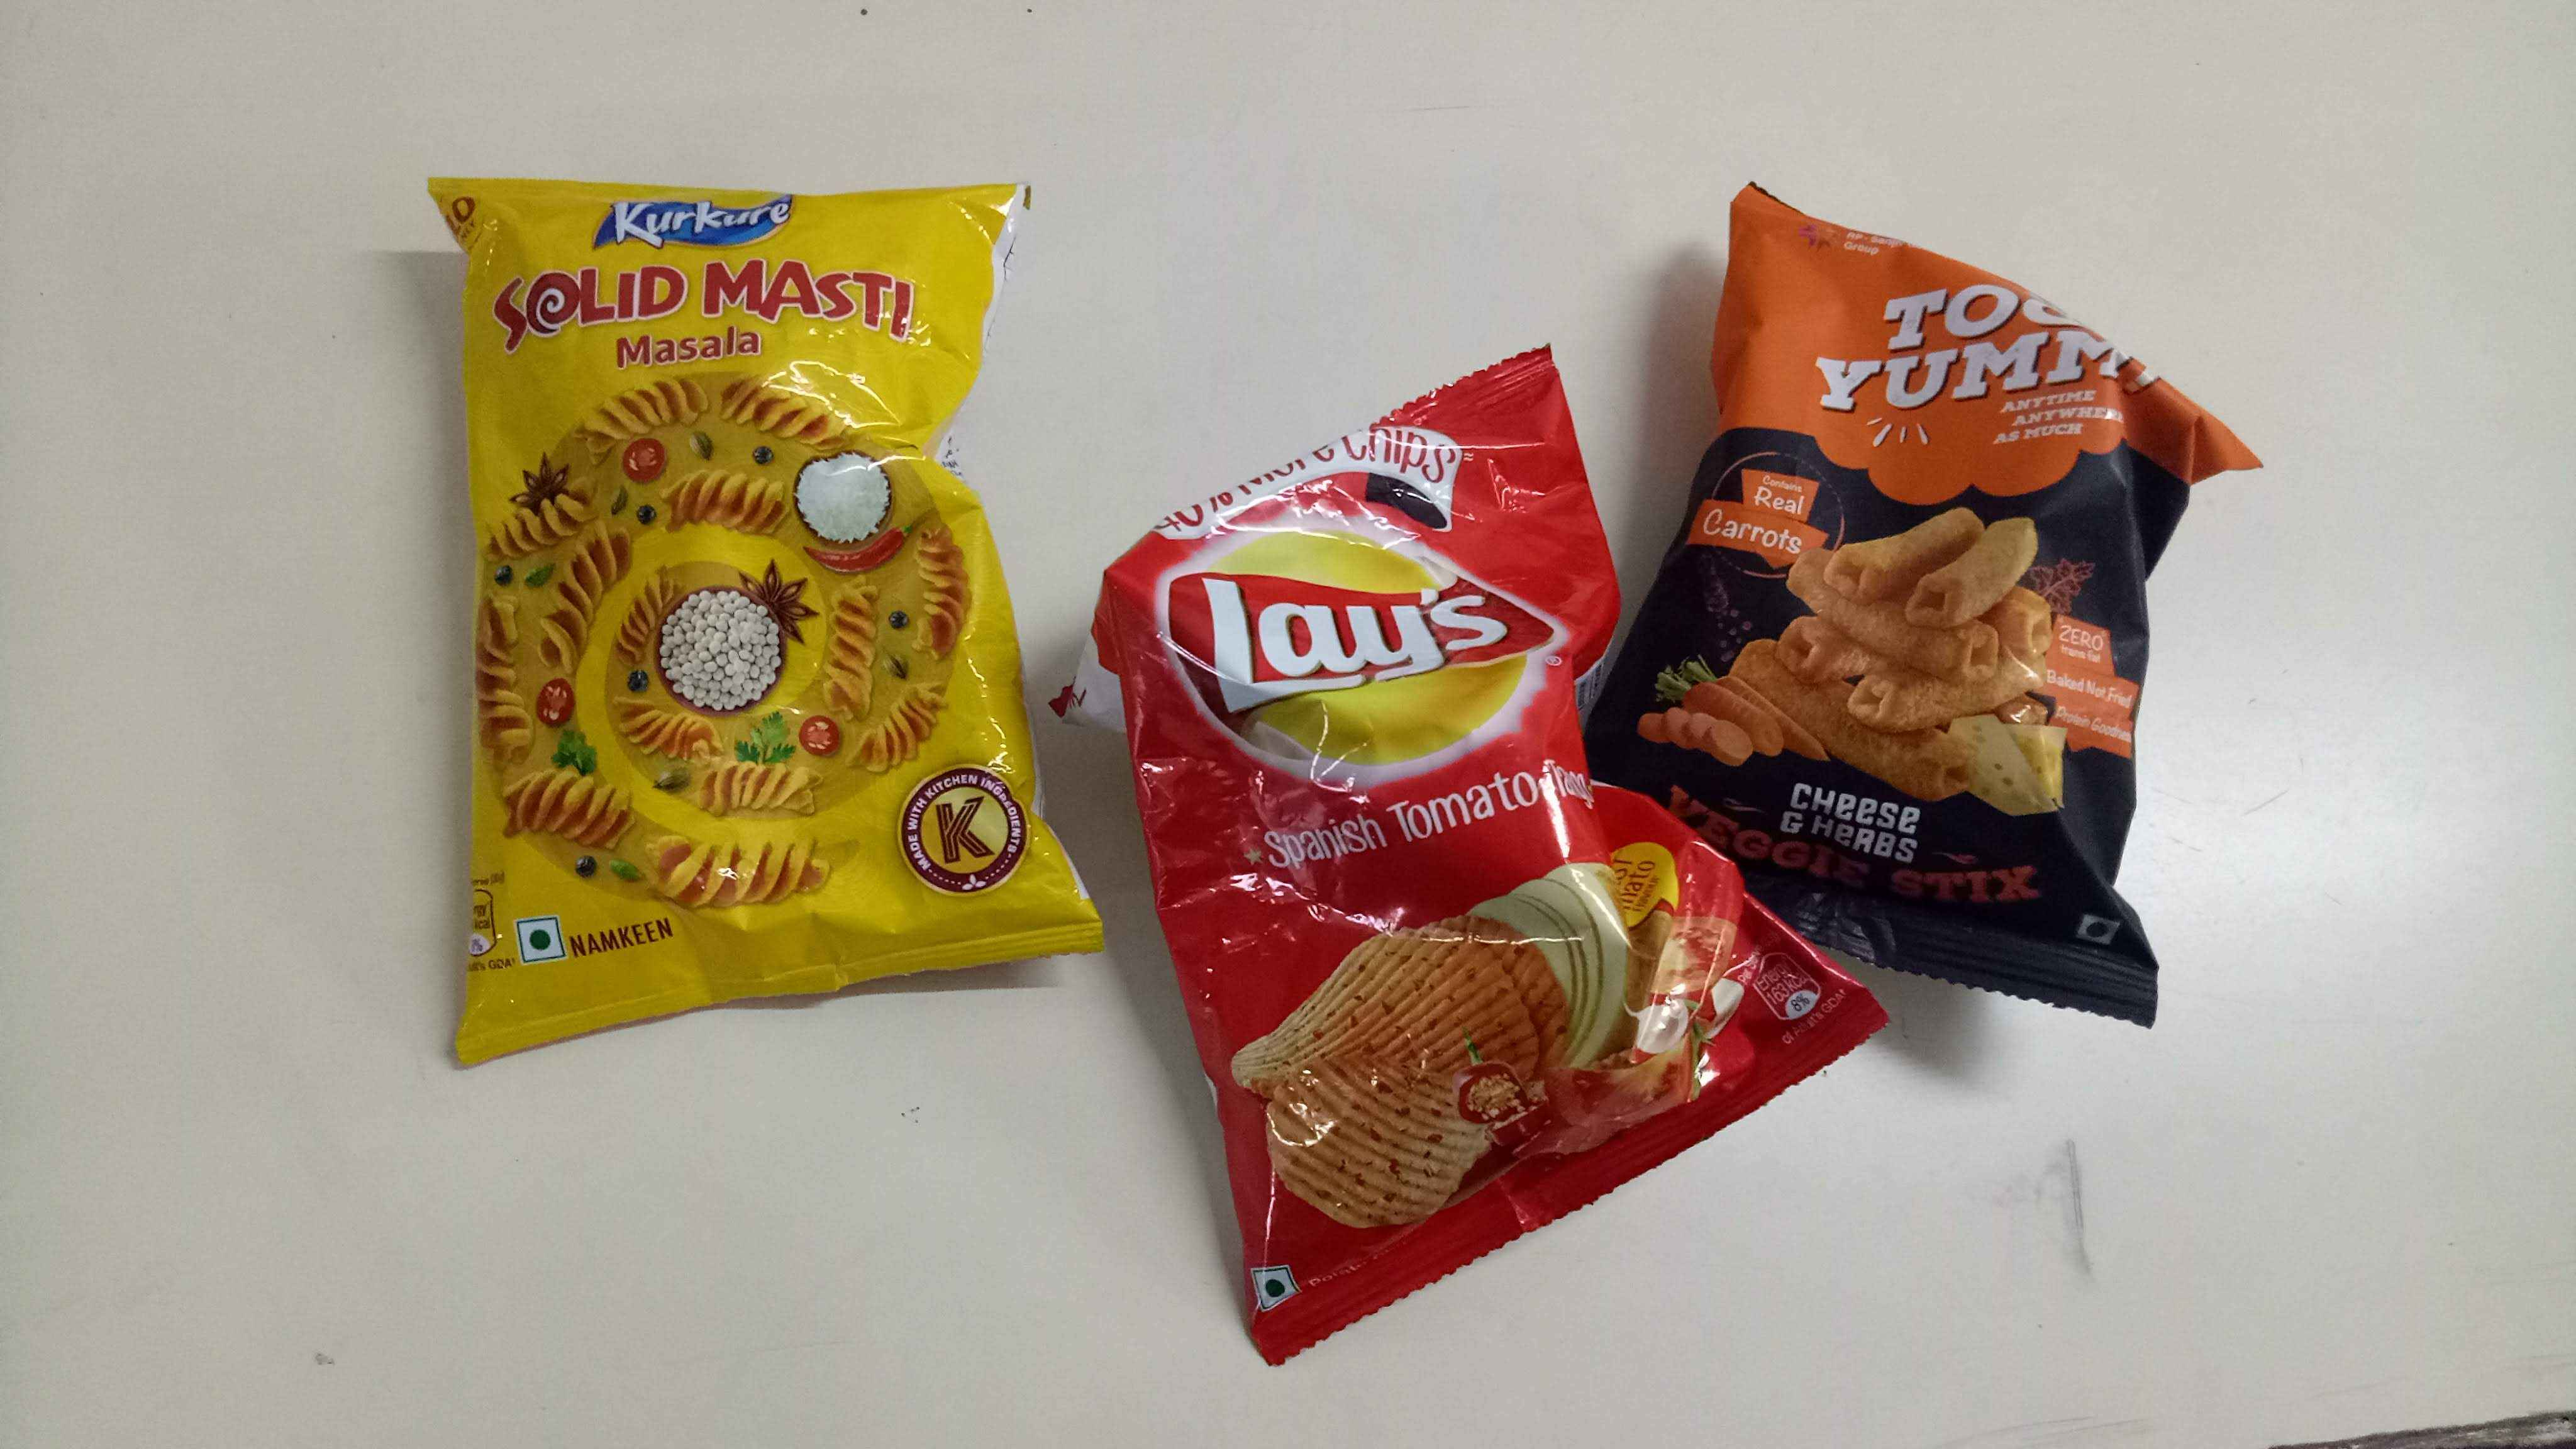Lays: (1184, 508, 1557, 832)
kurkure: (584, 196, 812, 262)
tooyumm: (1799, 280, 2160, 451)
